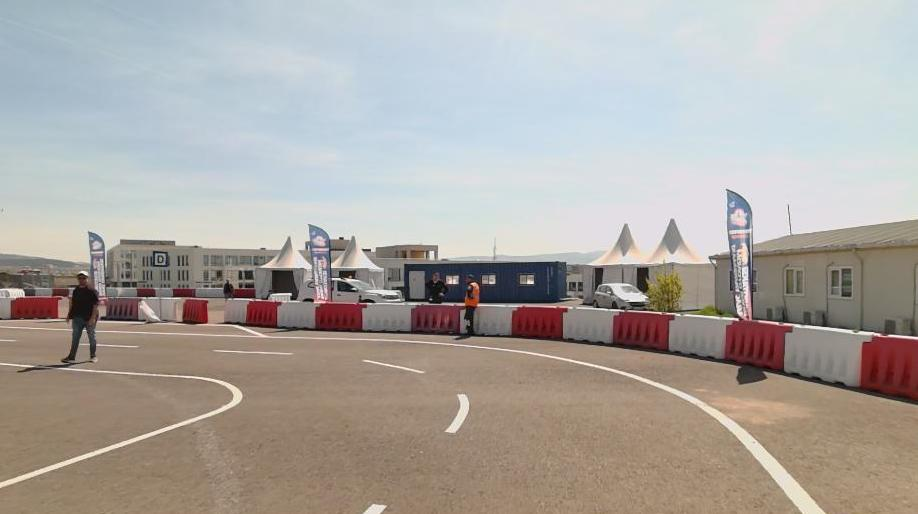nesne: (1, 328, 823, 514), (95, 329, 824, 512), (102, 329, 826, 513), (0, 343, 467, 513), (0, 361, 242, 486), (787, 325, 874, 390), (862, 332, 917, 403), (726, 318, 792, 375), (62, 271, 99, 363), (671, 316, 736, 361), (613, 311, 672, 353), (561, 307, 620, 343), (512, 306, 566, 338), (360, 302, 415, 332), (411, 302, 461, 334), (316, 302, 365, 330), (474, 304, 518, 335), (276, 301, 322, 328), (10, 296, 61, 319), (137, 296, 182, 321), (443, 391, 467, 432), (245, 298, 279, 325), (463, 275, 477, 334), (361, 359, 423, 372), (106, 295, 139, 319), (222, 297, 251, 323), (180, 297, 209, 321), (212, 349, 289, 353), (152, 251, 168, 266), (361, 503, 384, 513), (97, 343, 136, 346), (0, 338, 13, 341)
